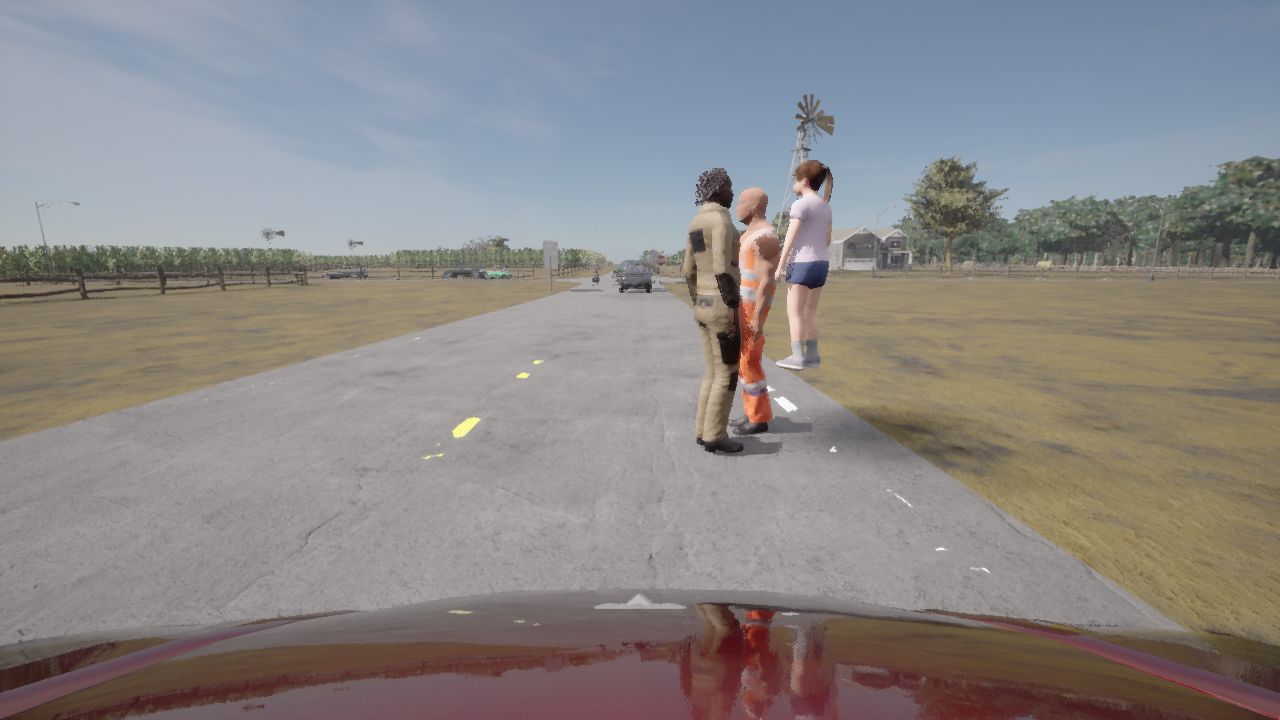cyclist: (0, 588, 1279, 719), (619, 267, 653, 292), (613, 259, 651, 280), (442, 263, 487, 279), (321, 266, 368, 280), (487, 266, 510, 279), (595, 276, 597, 284)
pedestrian: (685, 167, 743, 452), (727, 188, 778, 434), (775, 159, 834, 370), (163, 271, 166, 285)
